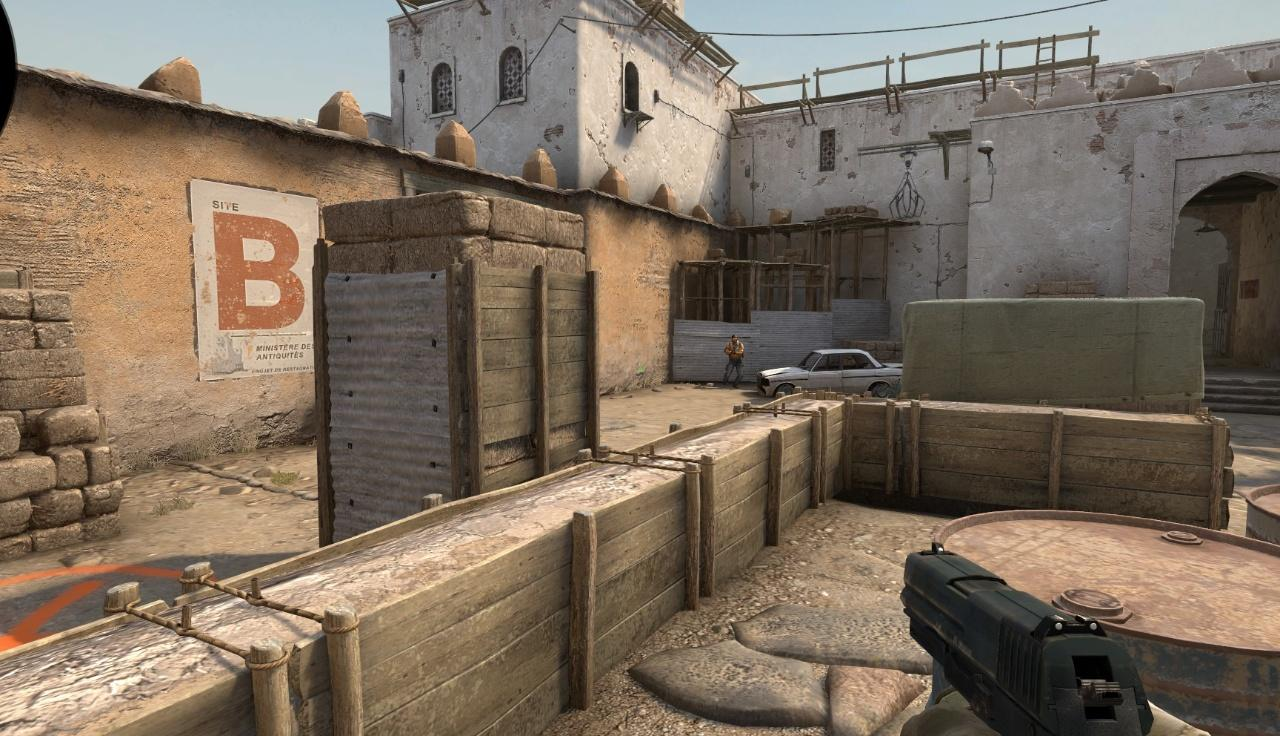pistol: (900, 542, 1217, 736)
tt: (724, 335, 744, 389)
tthead: (731, 335, 738, 344)
